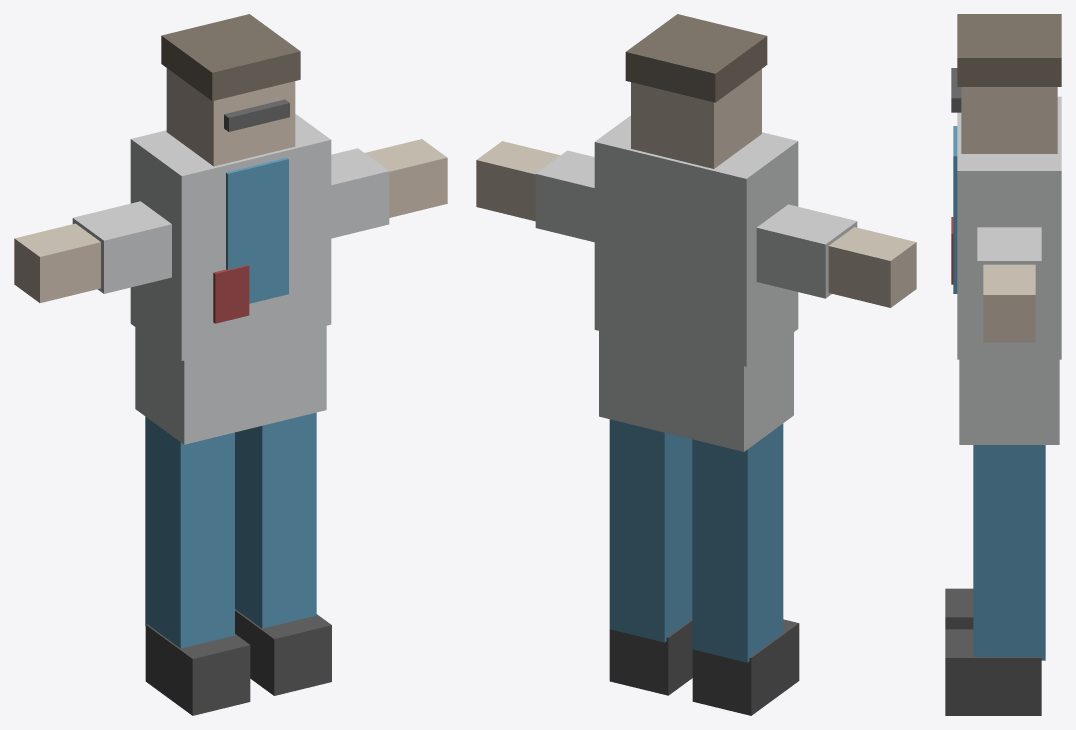
File: Dr_Aras.glb
3 renders of one model, left to right at view 1: azimuth 30°, elevation 25°; view 2: azimuth 150°, elevation 25°; view 3: azimuth 270°, elevation 25°, orthographic. The views are drawn at different scales.
Bounding box in the file's own units: 1.2 × 1.78 × 0.29.
